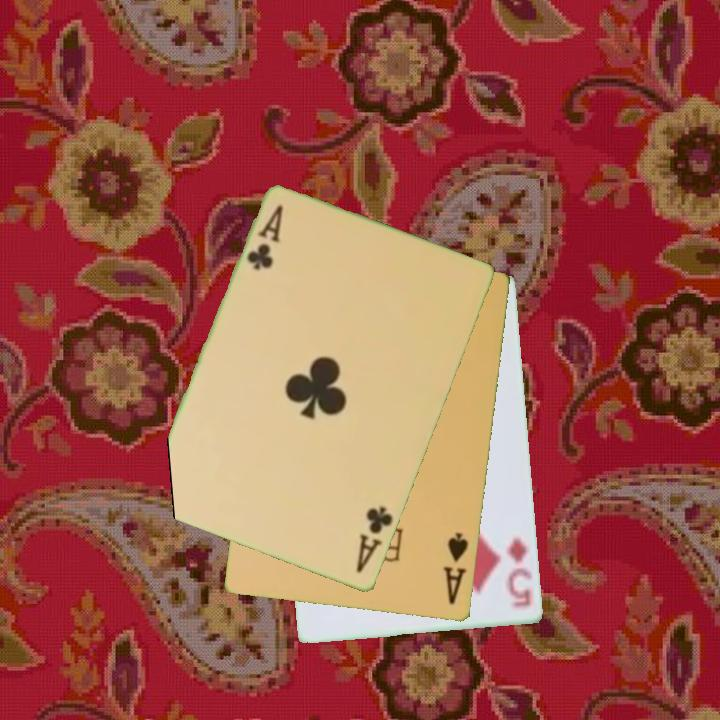5d: (504, 534, 535, 611)
Ac: (352, 504, 396, 577), (243, 201, 287, 274)
As: (440, 529, 472, 608)
